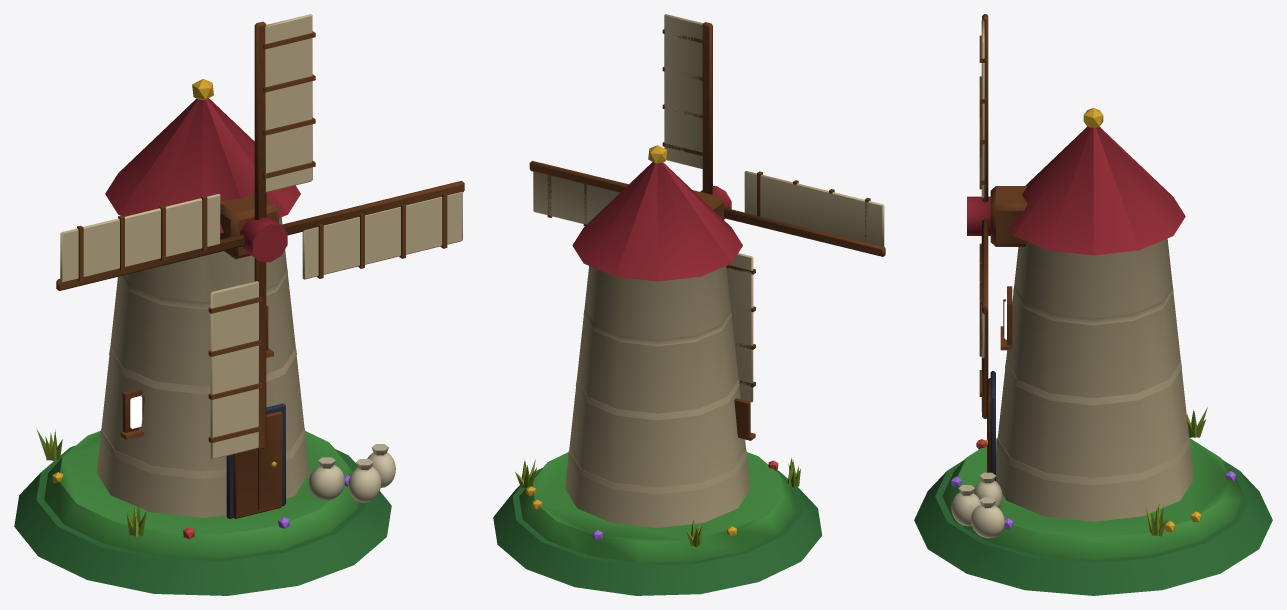
File: lm_gruental.glb
3 views of the same model, side by side, from view 1: azimuth 30°, elevation 25°; view 2: azimuth 150°, elevation 25°; view 3: azimuth 270°, elevation 25° (orthographic). The views are drawn at different scales.
Visible parts, largest first — view 1: body, spin_sails; view 2: body, spin_sails; view 3: body, spin_sails.
Boxes of the visible parts, bbox=[...] form: body: bbox=[14, 79, 395, 595]; spin_sails: bbox=[56, 14, 464, 459]; body: bbox=[493, 145, 822, 595]; spin_sails: bbox=[529, 14, 885, 402]; body: bbox=[914, 108, 1272, 595]; spin_sails: bbox=[967, 14, 991, 418].
Size of the model in its own units: 8.4 by 10.55 by 6.8.
